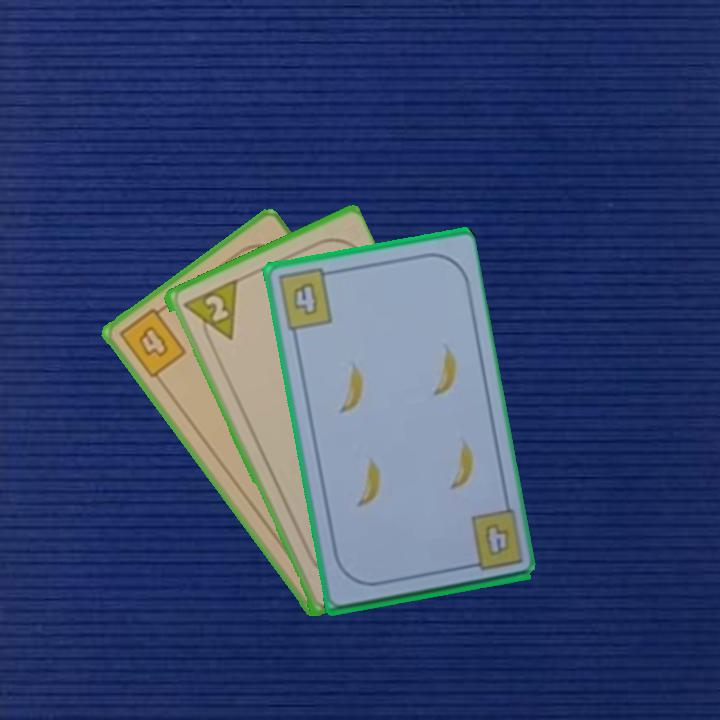2p: (179, 276, 240, 350)
4b: (115, 301, 189, 381), (273, 265, 337, 333), (480, 519, 512, 559)
